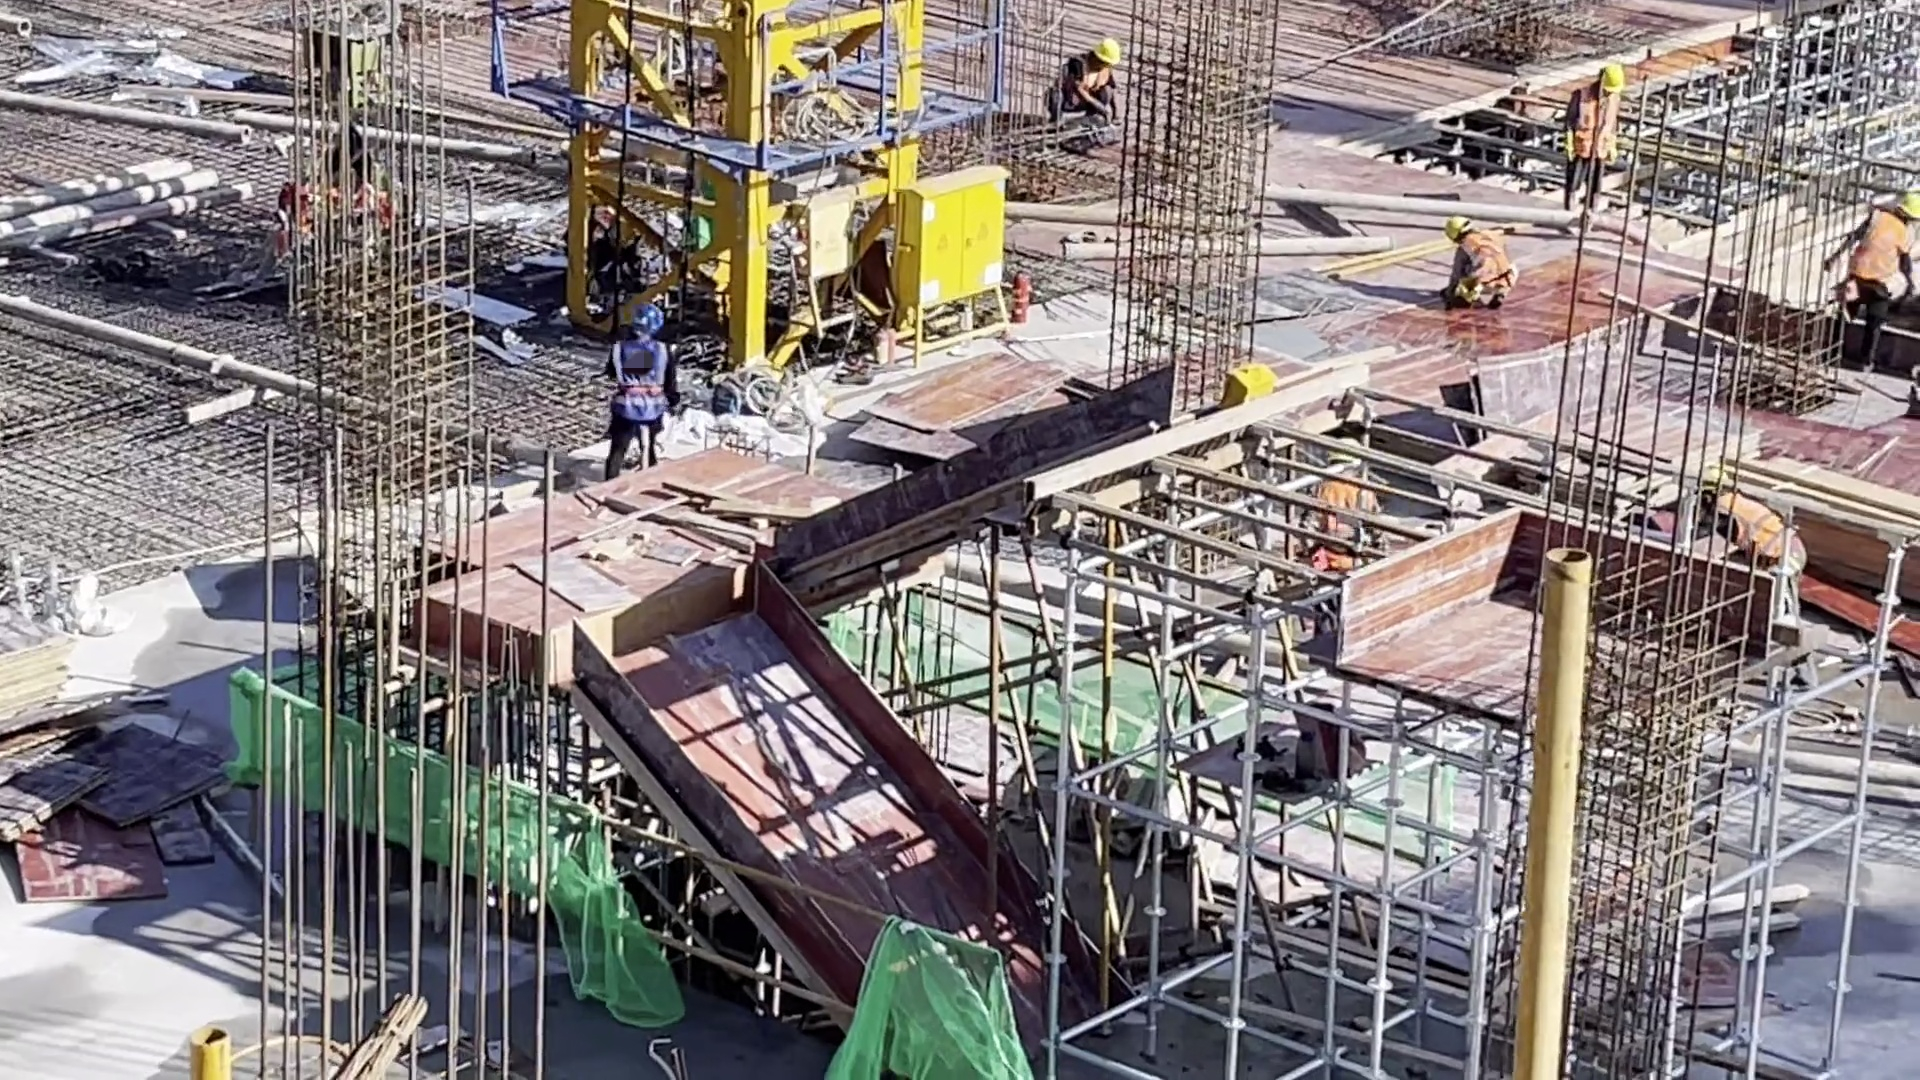board: (1, 709, 230, 921)
ebox: (885, 160, 1017, 357), (792, 188, 869, 350), (1220, 356, 1283, 415)
helmet: (1597, 57, 1636, 94), (628, 309, 666, 341), (1442, 212, 1475, 248), (1091, 35, 1119, 69), (1881, 193, 1920, 216)
person: (1820, 177, 1920, 347), (590, 307, 685, 480), (1692, 482, 1812, 602), (1311, 438, 1384, 580), (1565, 54, 1635, 202), (1047, 33, 1124, 134), (1437, 209, 1513, 308)
vest: (608, 341, 672, 431), (1841, 211, 1905, 296), (1718, 497, 1797, 566), (1566, 89, 1624, 171), (1050, 61, 1103, 125), (1465, 237, 1509, 301)
wood: (1714, 448, 1920, 536)
